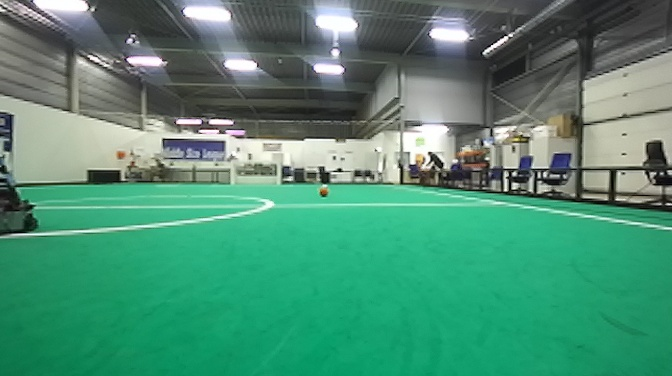ball: (316, 182, 332, 198)
goal: (230, 162, 282, 189)
goalpost: (276, 161, 282, 188), (229, 164, 235, 189)
robot: (1, 113, 45, 241)
